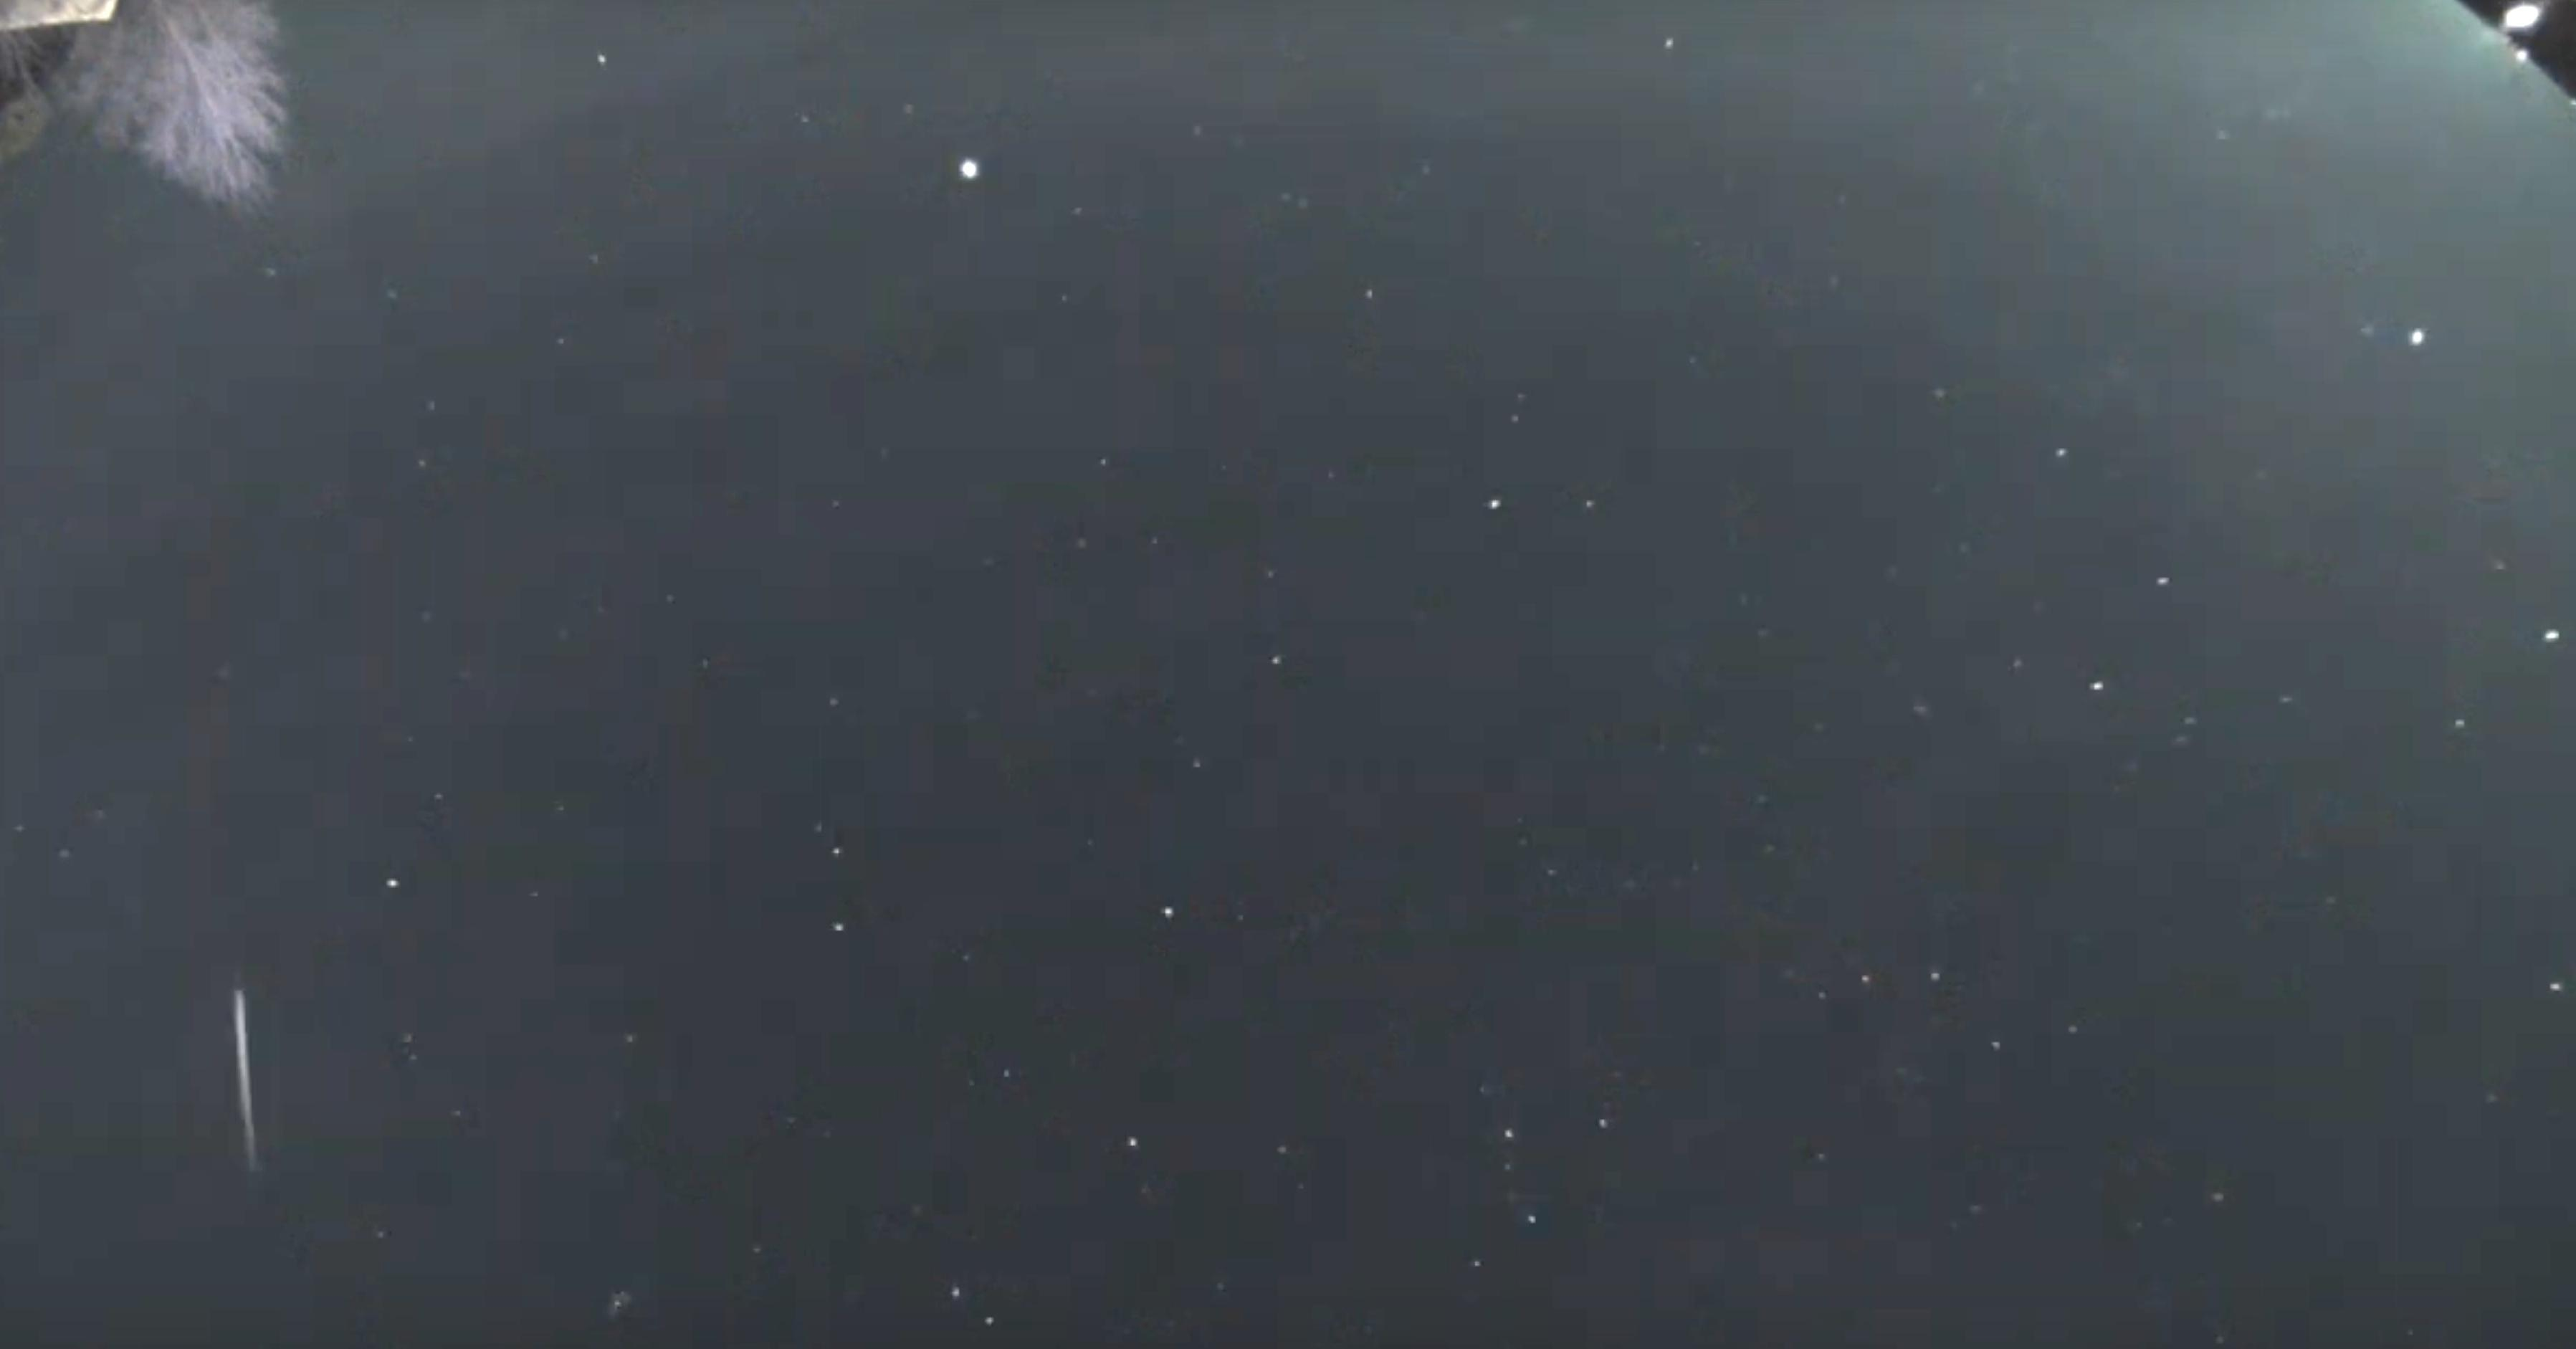Plane: (589, 1266, 658, 1325)
meteorite: (194, 956, 295, 1180)
